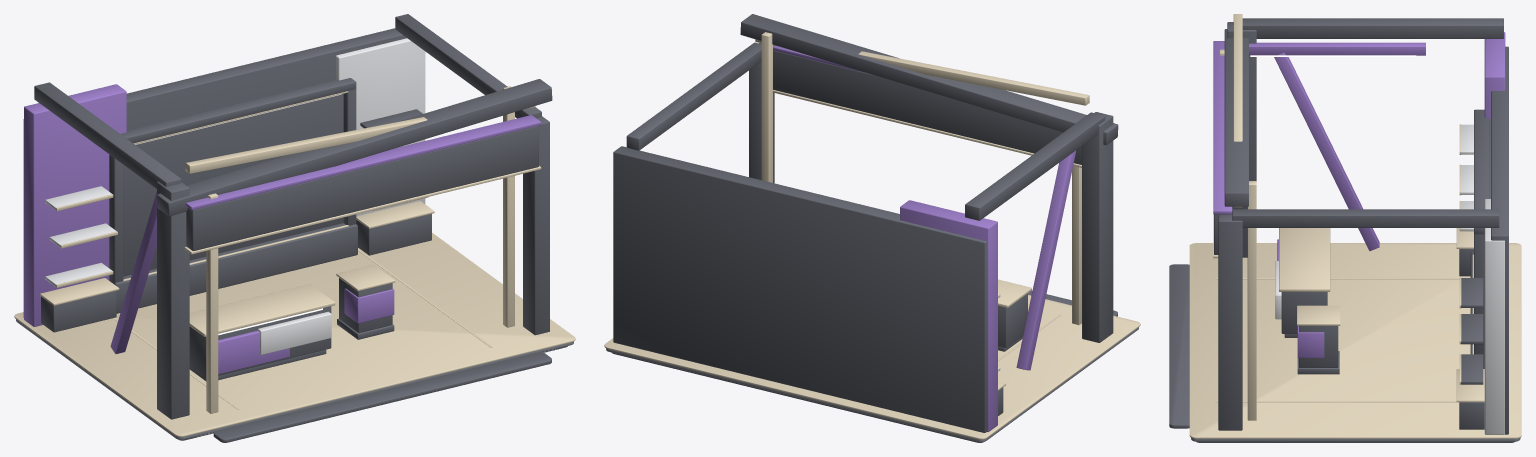
File: booth_06_dynamic_frame_v4.glb
The picture shows the model from 3 angles, left to right: view 1: azimuth 30°, elevation 25°; view 2: azimuth 150°, elevation 25°; view 3: azimuth 270°, elevation 25°; orthographic projection. The views are drawn at different scales.
Parts seen in each view (by area): view 1: Booth06_DynamicFrame_Dynamic_Matte_Graphite, Booth06_DynamicFrame_Dynamic_Champagne_Metal, Booth06_DynamicFrame_Dynamic_Royal_Violet, Booth06_DynamicFrame_Dynamic_Soft_Gray, Booth06_DynamicFrame_Dynamic_Light_Basalt; view 2: Booth06_DynamicFrame_Dynamic_Matte_Graphite, Booth06_DynamicFrame_Dynamic_Champagne_Metal, Booth06_DynamicFrame_Dynamic_Royal_Violet, Booth06_DynamicFrame_Dynamic_Light_Basalt; view 3: Booth06_DynamicFrame_Dynamic_Champagne_Metal, Booth06_DynamicFrame_Dynamic_Matte_Graphite, Booth06_DynamicFrame_Dynamic_Royal_Violet, Booth06_DynamicFrame_Dynamic_Soft_Gray, Booth06_DynamicFrame_Dynamic_Light_Basalt.
Part boxes in pixels (x1,y1,x2,y2): Booth06_DynamicFrame_Dynamic_Matte_Graphite: [23, 14, 567, 442]; Booth06_DynamicFrame_Dynamic_Champagne_Metal: [14, 86, 575, 436]; Booth06_DynamicFrame_Dynamic_Royal_Violet: [24, 84, 540, 374]; Booth06_DynamicFrame_Dynamic_Soft_Gray: [45, 38, 425, 354]; Booth06_DynamicFrame_Dynamic_Light_Basalt: [16, 319, 573, 439]; Booth06_DynamicFrame_Dynamic_Matte_Graphite: [612, 14, 1118, 442]; Booth06_DynamicFrame_Dynamic_Champagne_Metal: [604, 32, 1140, 439]; Booth06_DynamicFrame_Dynamic_Royal_Violet: [773, 45, 1076, 431]; Booth06_DynamicFrame_Dynamic_Light_Basalt: [606, 327, 1138, 442]; Booth06_DynamicFrame_Dynamic_Champagne_Metal: [1189, 14, 1521, 438]; Booth06_DynamicFrame_Dynamic_Matte_Graphite: [1169, 18, 1514, 442]; Booth06_DynamicFrame_Dynamic_Royal_Violet: [1213, 32, 1505, 357]; Booth06_DynamicFrame_Dynamic_Soft_Gray: [1275, 124, 1504, 434]; Booth06_DynamicFrame_Dynamic_Light_Basalt: [1191, 437, 1520, 441].
Size of the model in its own units: 7.2 by 4.38 by 5.52.
